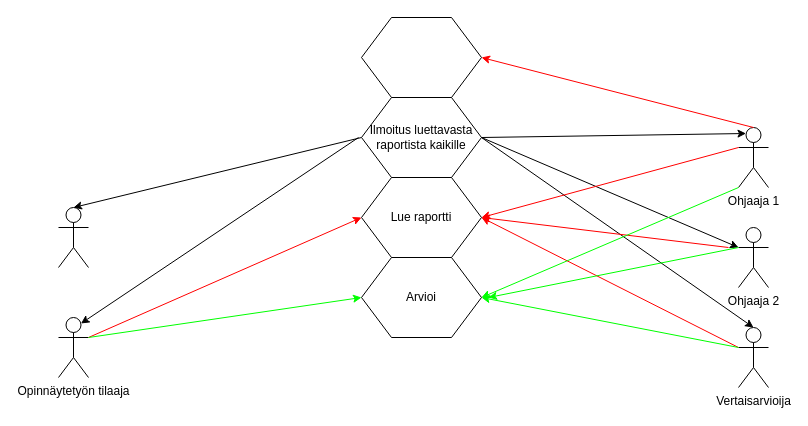
Some shapes in this 808 by 426 pixel diagram are drawn without their labels. Here are the shapes that lost their labels. From the top down, the centre of each, then its label:
(421,57): Lähetä tieto valmiudesta
(73,237): Opiskelija
